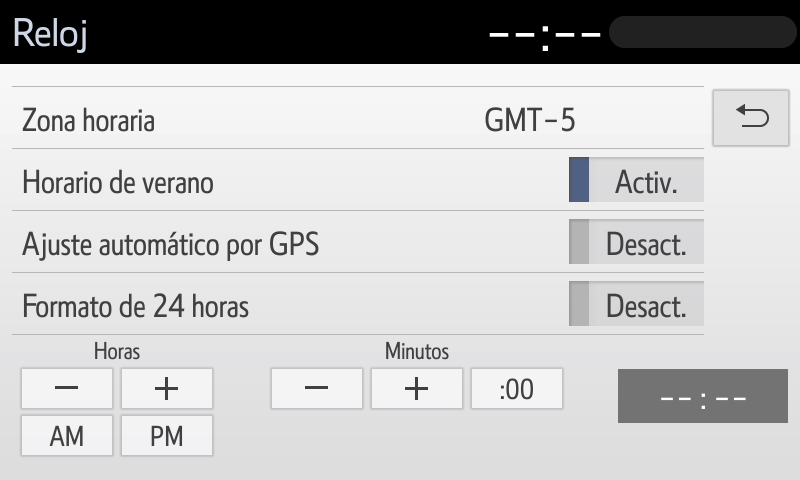untouchPart: (11, 203, 704, 279), (13, 75, 708, 150), (11, 267, 708, 338), (9, 143, 708, 212), (485, 8, 796, 54), (709, 84, 795, 151), (113, 412, 220, 460), (17, 363, 115, 413), (7, 8, 105, 56), (366, 366, 466, 410), (17, 413, 114, 456), (118, 367, 218, 408), (267, 366, 362, 408)
